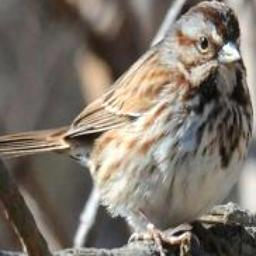Sparrow: (0, 0, 253, 256)
